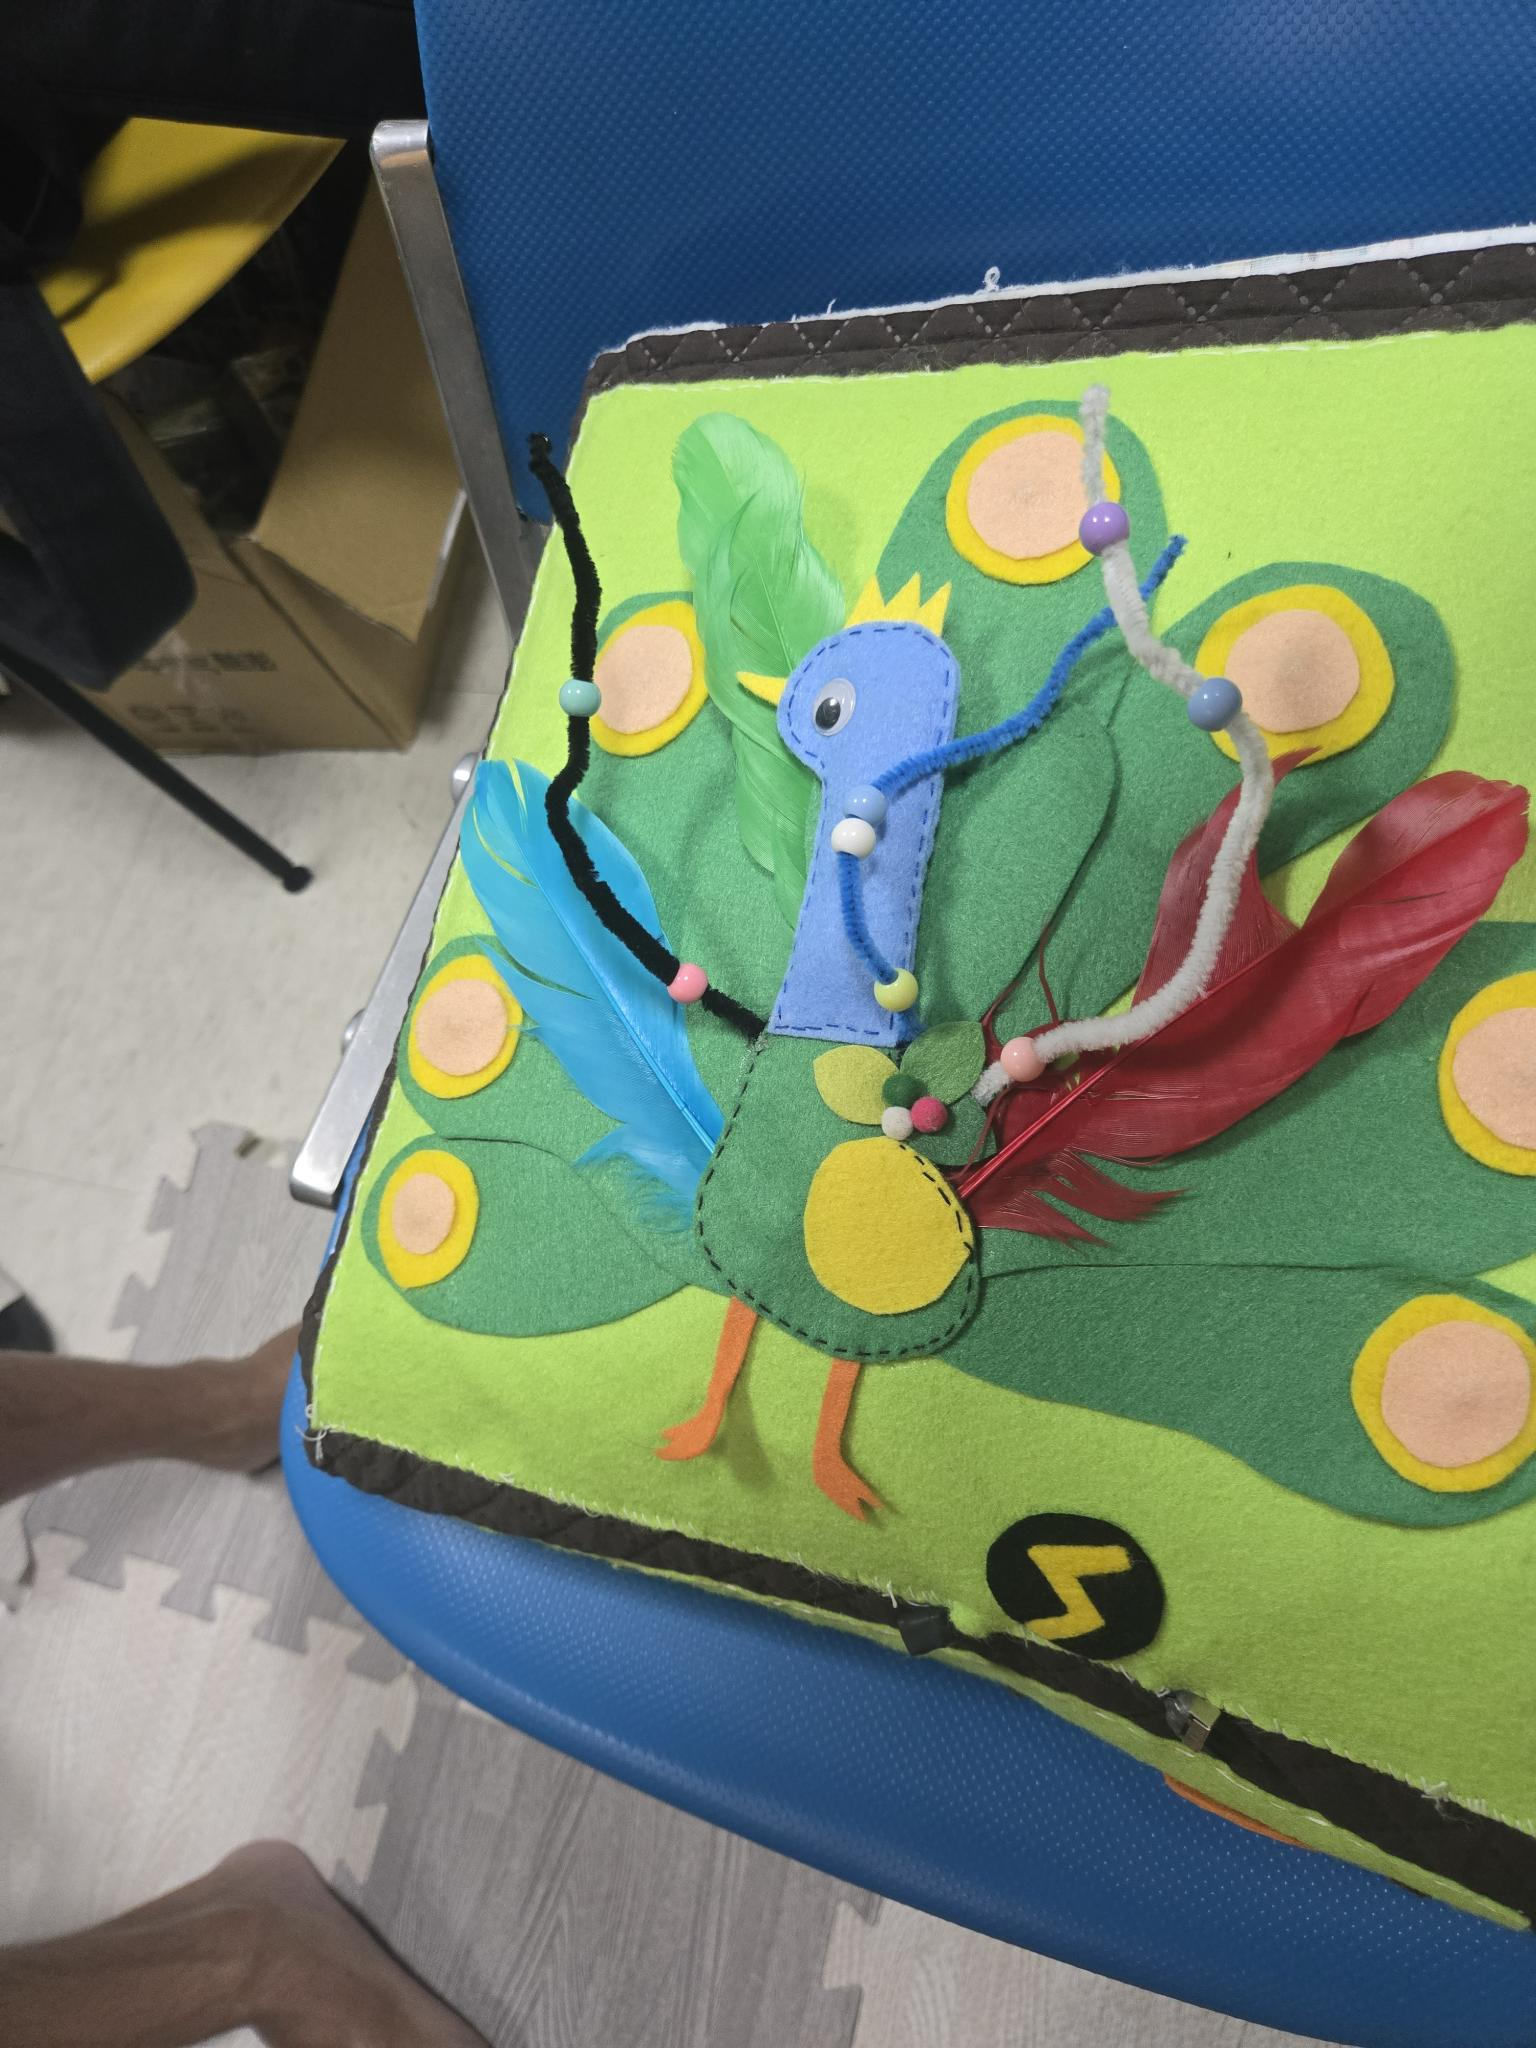bead: (1173, 663, 1249, 742), (650, 934, 715, 1014), (994, 1021, 1055, 1098), (824, 806, 891, 877), (1070, 493, 1139, 558), (871, 955, 931, 1019), (547, 658, 607, 722), (834, 771, 895, 811)
